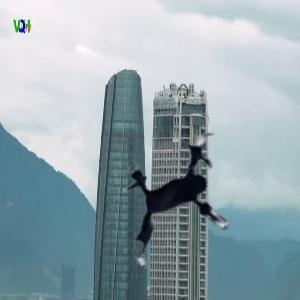drone: (99, 120, 271, 292)
